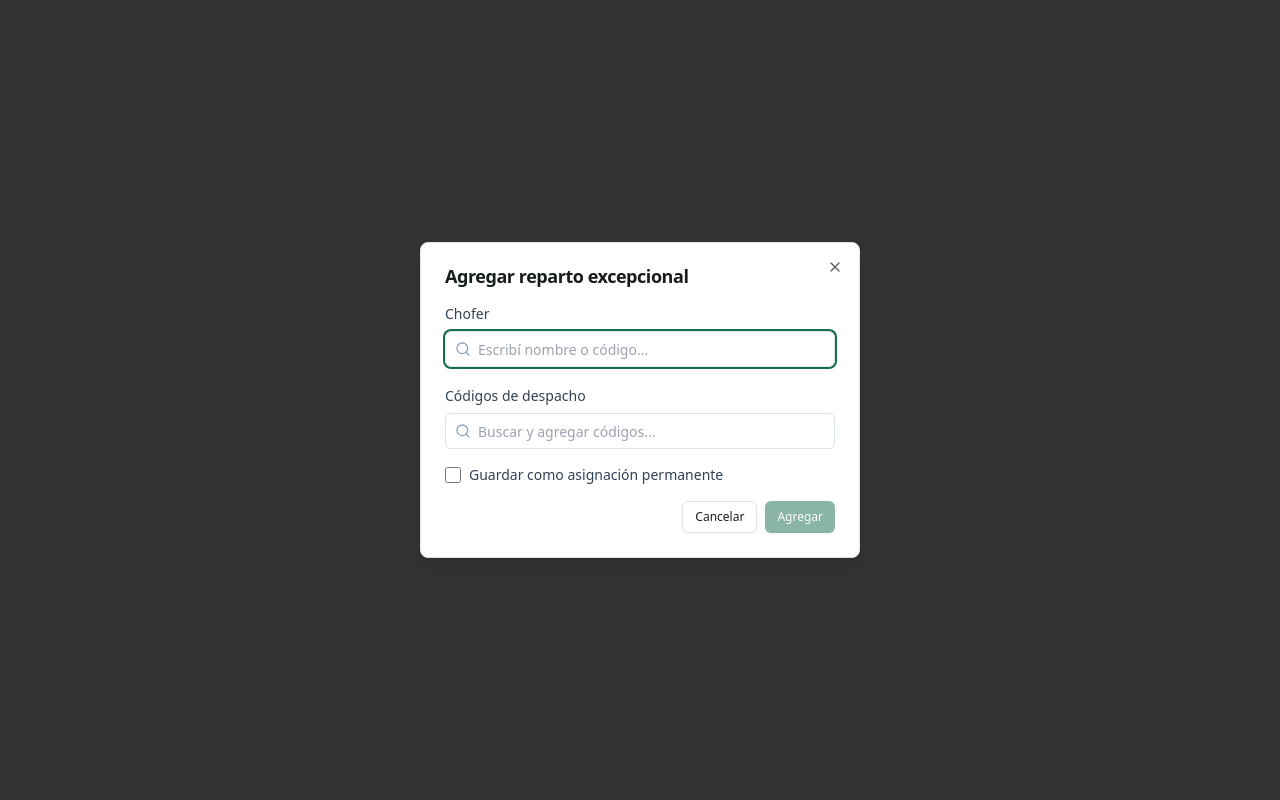
Scenario: RepartoExcepcionalModal › mientras busca código de despacho (antes de resolver), muestra el spinner de carga
Type "lop" into the field with placeholder "Escribí nombre o código...".
click(640, 349); type("lop")  # box [445, 331, 835, 367]
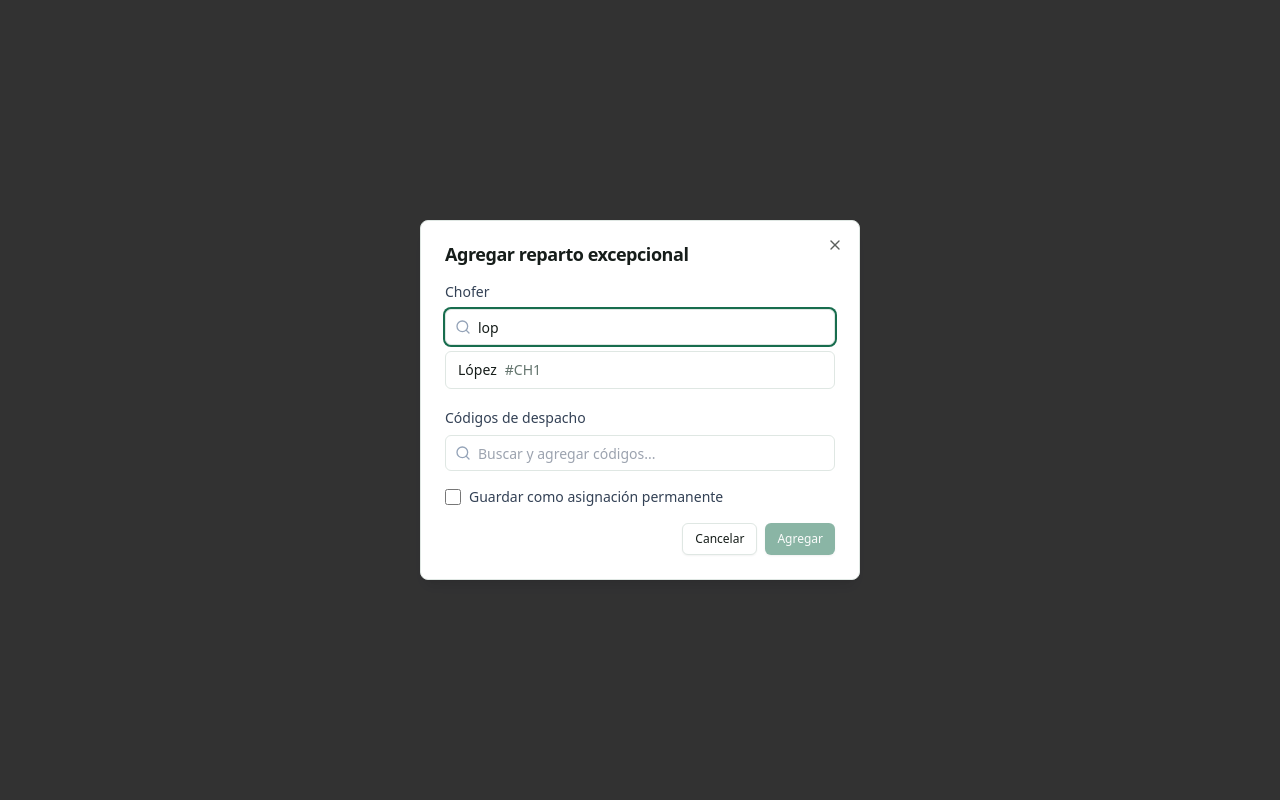
Click the button "López#CH1".
click(477, 370)  # box [446, 352, 834, 388]
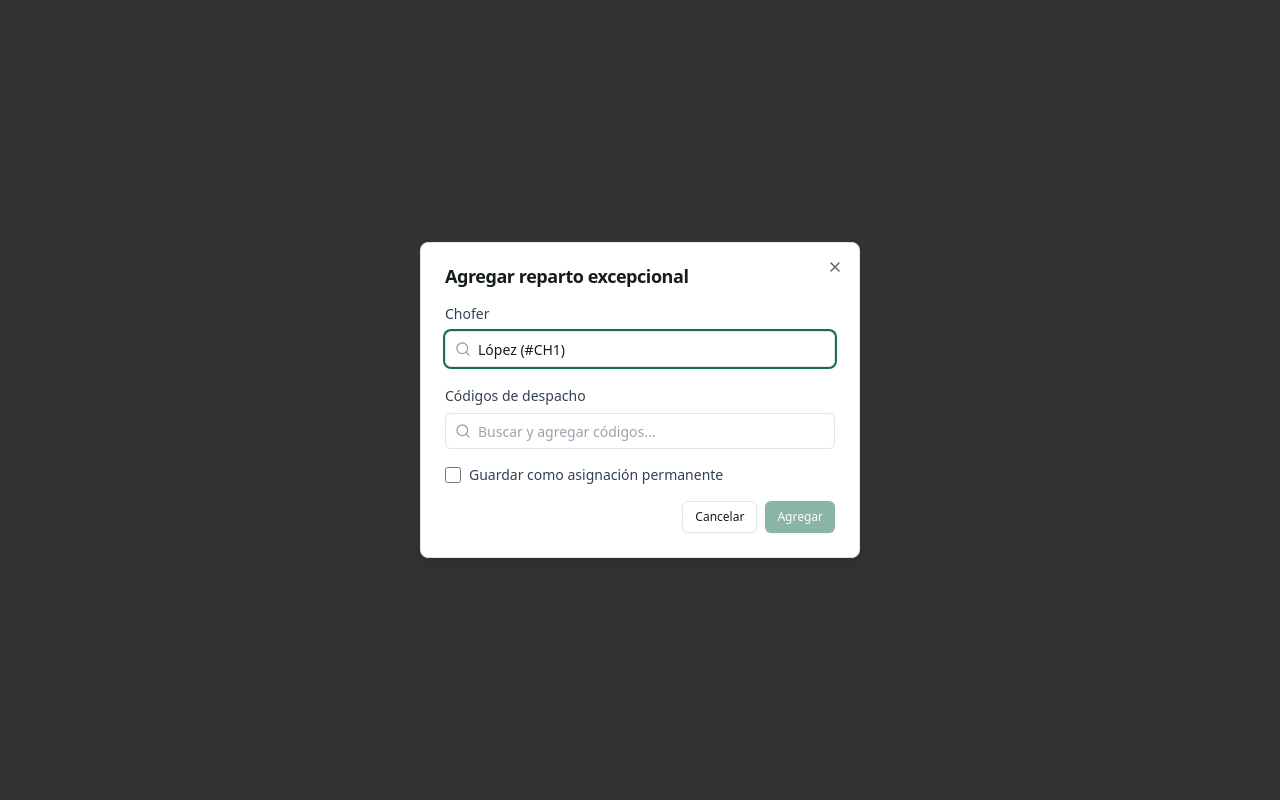
Type "ruta" into the field with placeholder "Buscar y agregar códigos...".
click(640, 431); type("ruta")  # box [445, 413, 835, 449]
Wait 300 ms
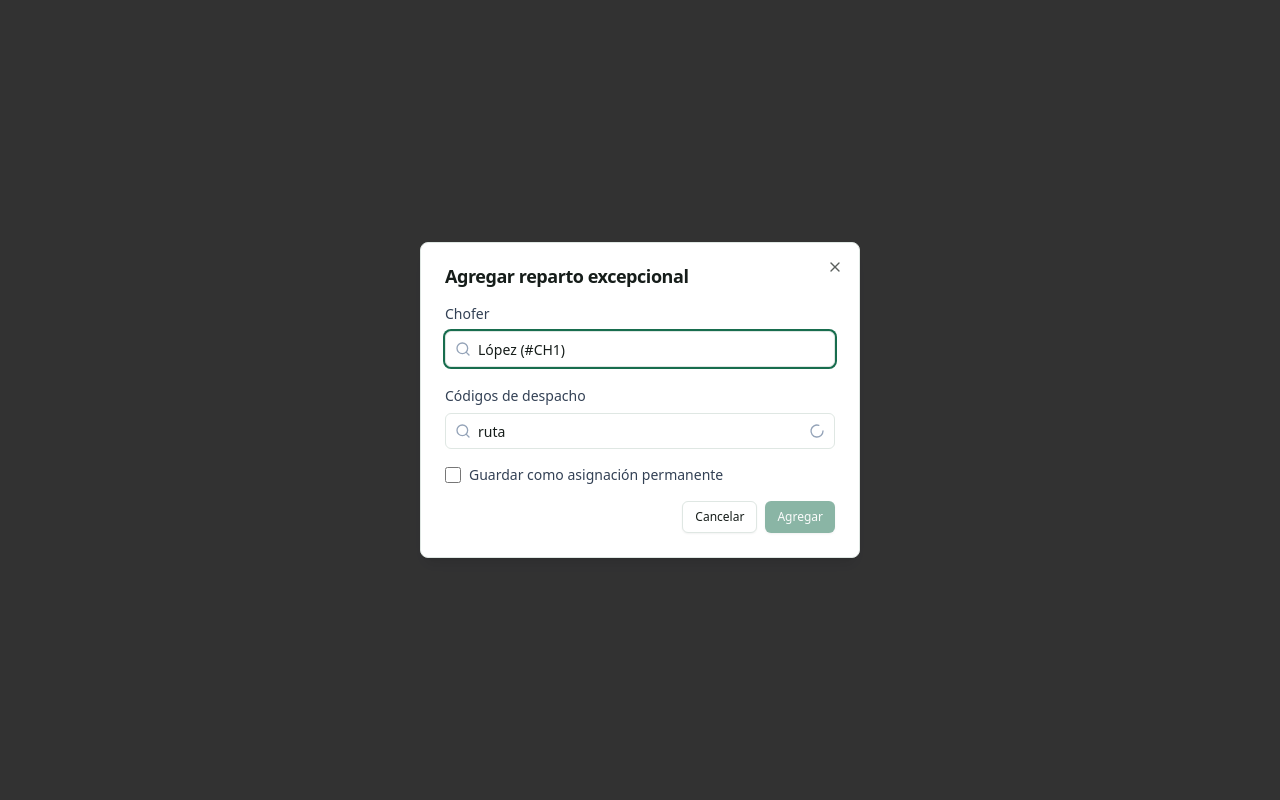
Result: the icon with class "animate-spin" is shown at [809, 423, 825, 439]
